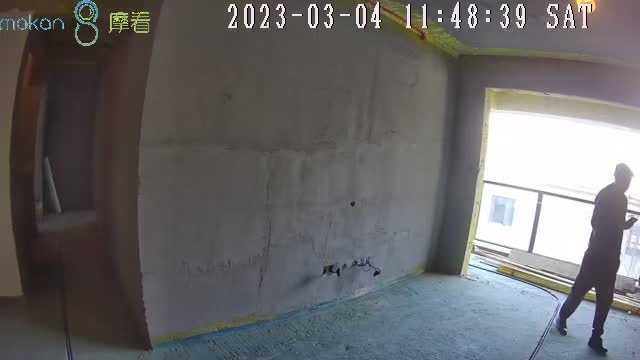people: (555, 162, 634, 355)
window: (473, 107, 640, 293)
